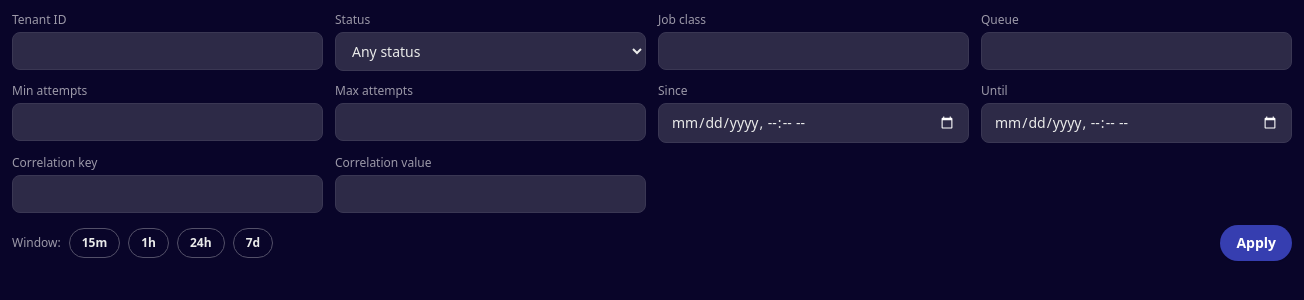
FilterBuilder › shows a correlation-value error and blocks apply when only the key is set
In the field labelled "Correlation key": (168, 194) top-left (12, 175), bottom-right (323, 213), type "order_id"
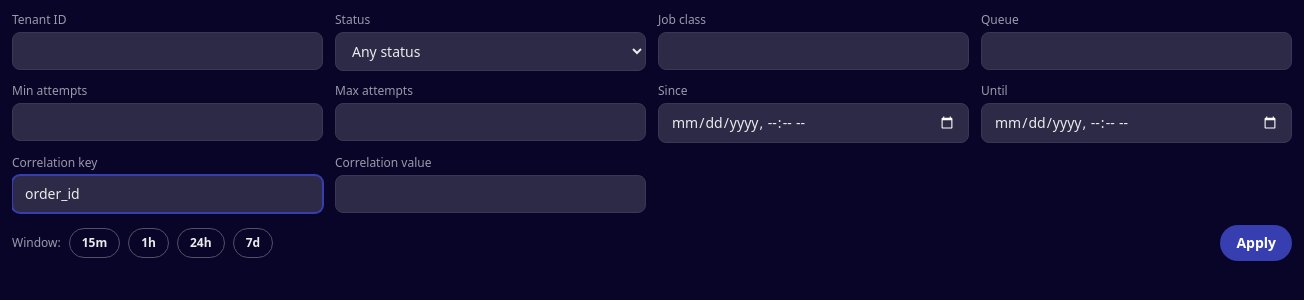
Click the button "Apply": (1256, 243) top-left (1220, 225), bottom-right (1292, 261)
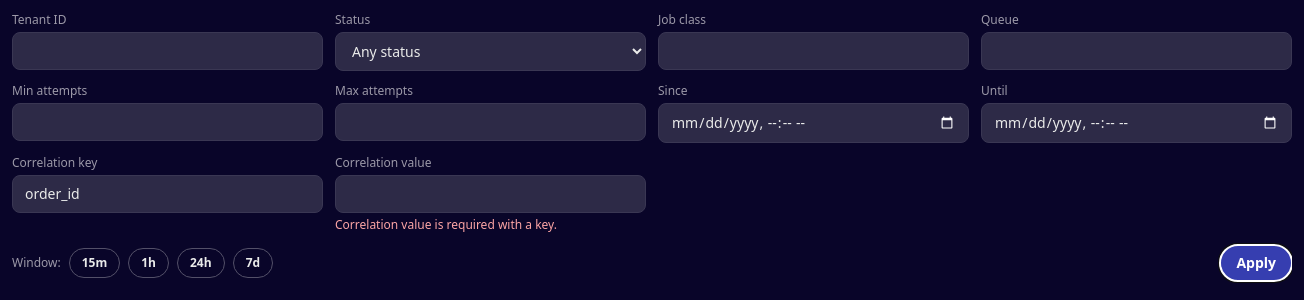
Expected: the text "Correlation value is required with a key." is shown, top-left (335, 216), bottom-right (557, 233)
